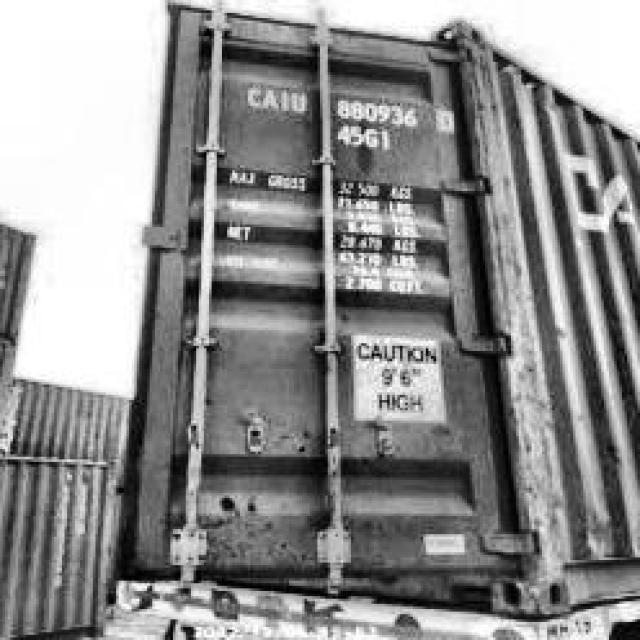ISO: (332, 125, 399, 158)
container_number: (248, 90, 450, 123)
